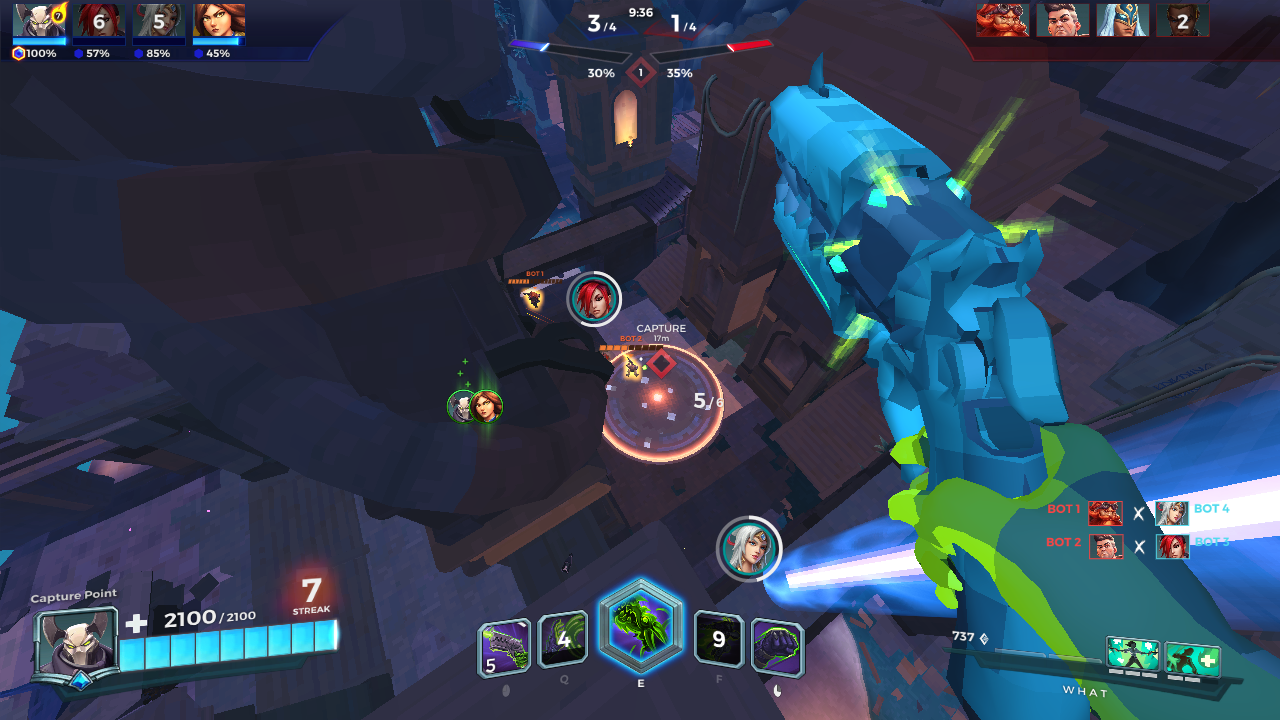model: (524, 288, 549, 316), (620, 355, 642, 384)
